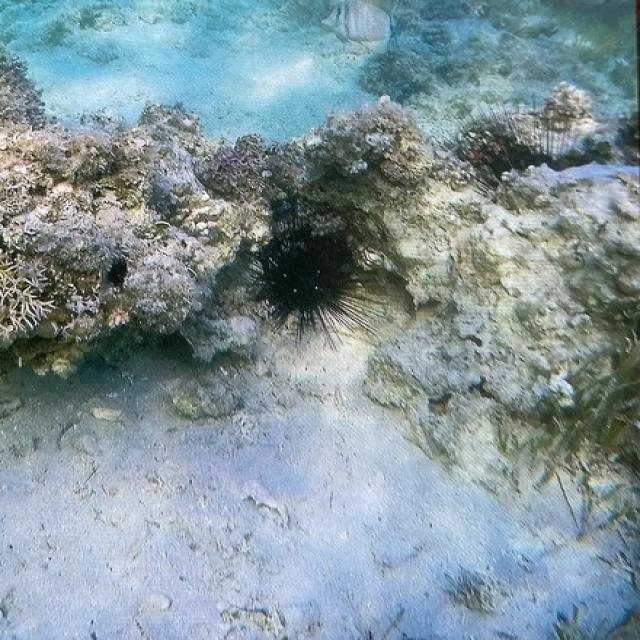Urchin: (248, 202, 392, 352), (439, 96, 585, 195)
